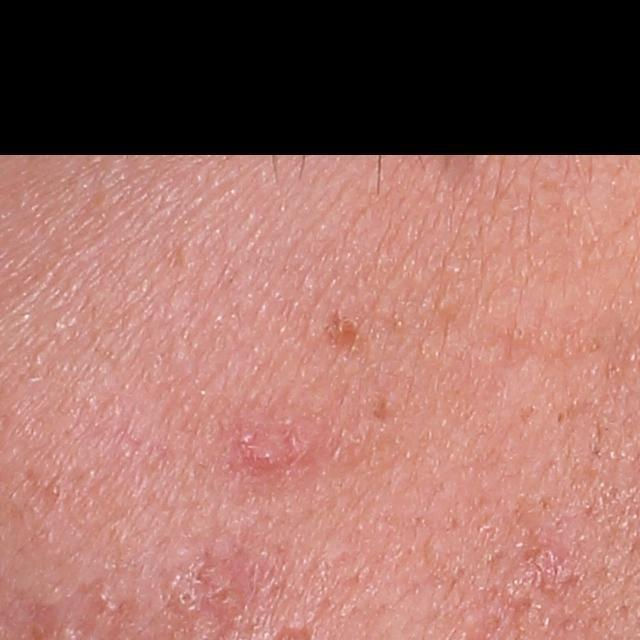comedo: (505, 322, 528, 343), (177, 586, 198, 608)
papule: (249, 439, 287, 481)
